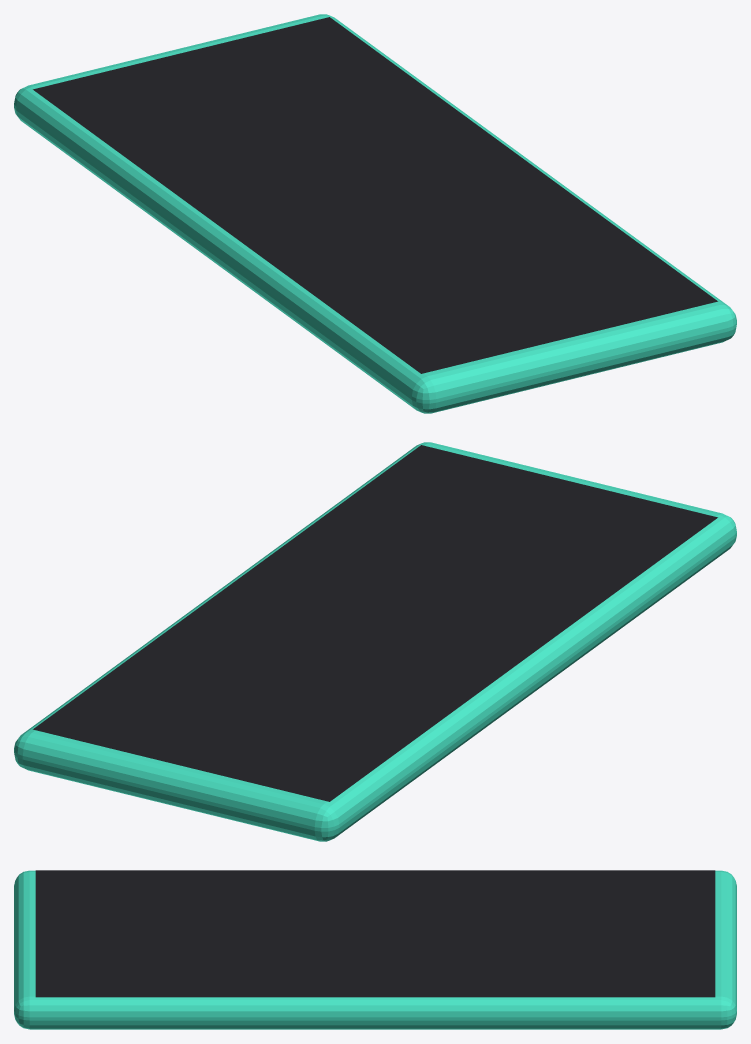
The model's file is iqoo-z-model-203-mid-range-2022.glb.
3 renders of one model, top to bottom at view 1: azimuth 30°, elevation 25°; view 2: azimuth 150°, elevation 25°; view 3: azimuth 270°, elevation 25°, orthographic. The views are drawn at different scales.
Visible parts, largest first — view 1: Phone_Screen, Phone_Body; view 2: Phone_Screen, Phone_Body; view 3: Phone_Screen, Phone_Body.
Boxes of the visible parts, bbox=[...] form: Phone_Screen: bbox=[33, 17, 717, 373]; Phone_Body: bbox=[14, 14, 736, 413]; Phone_Screen: bbox=[33, 445, 717, 801]; Phone_Body: bbox=[14, 442, 736, 841]; Phone_Screen: bbox=[35, 870, 715, 997]; Phone_Body: bbox=[14, 870, 736, 1029].
Bounding box in the file's own units: 0.0749 × 0.0081 × 0.1661.
